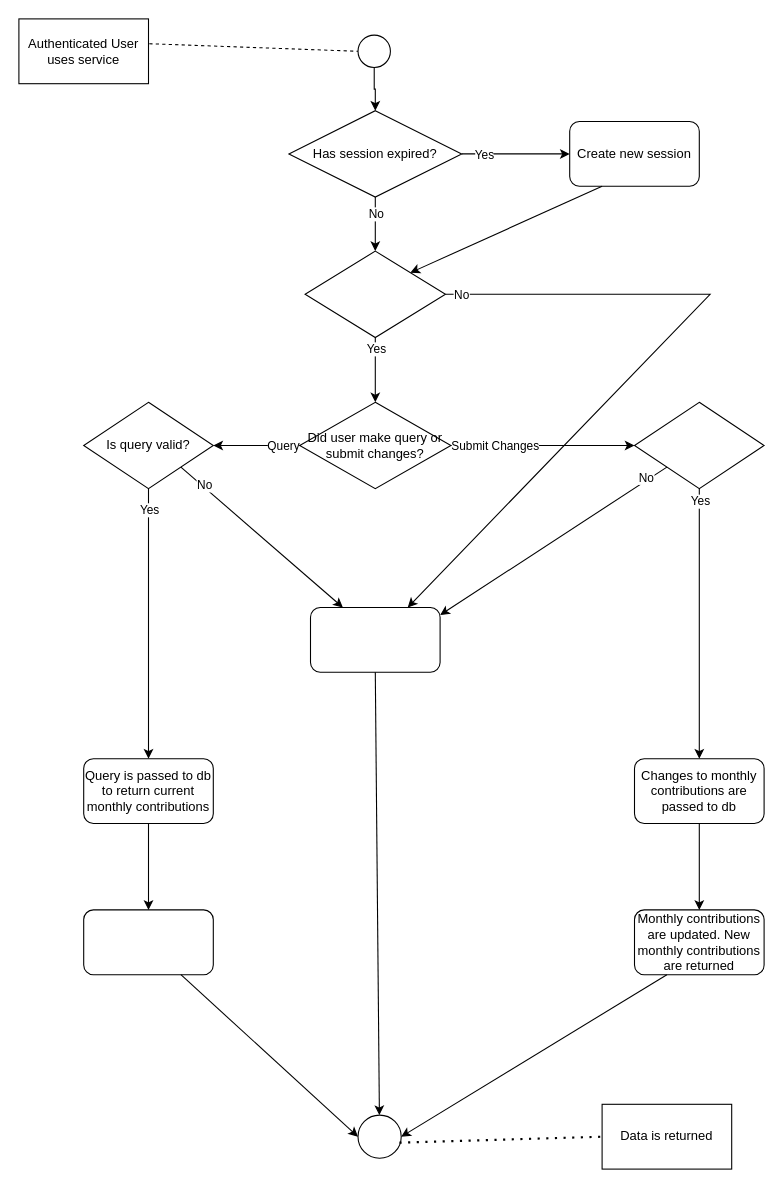
This 783x1188 diagram has some shape labels left out. Here are the shapes that lost their labels. From the top down, the box of each, then its label:
(304, 250, 446, 338): Does user have monthly contributions?
(633, 401, 764, 489): Are changes valid?
(309, 606, 440, 672): Error Handler
(83, 909, 213, 975): Monthly contributions are returned
